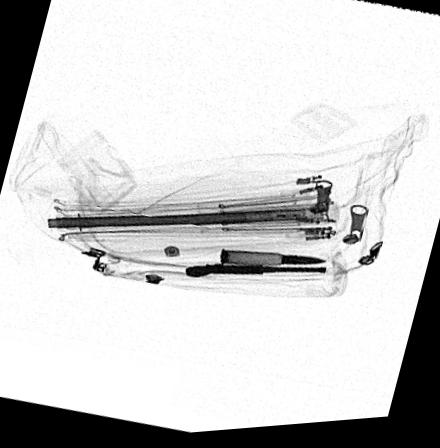Bullet: (221, 254, 326, 270)
Gun: (185, 266, 328, 282)
